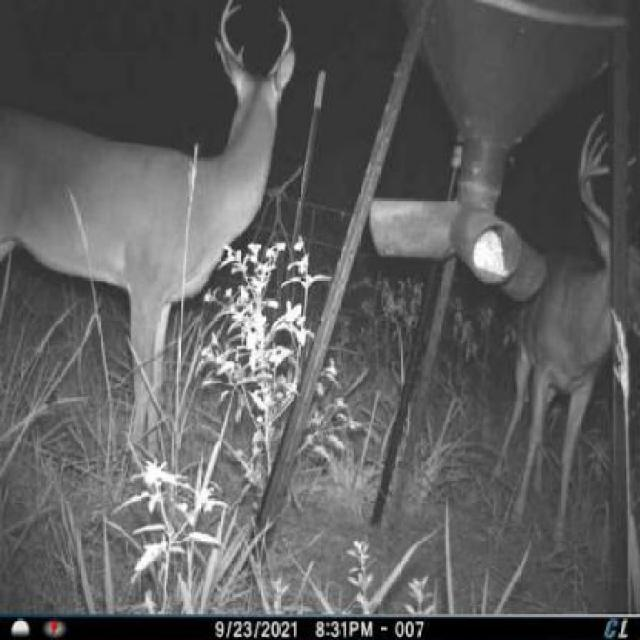Deer: (0, 0, 286, 502), (515, 104, 639, 551)
